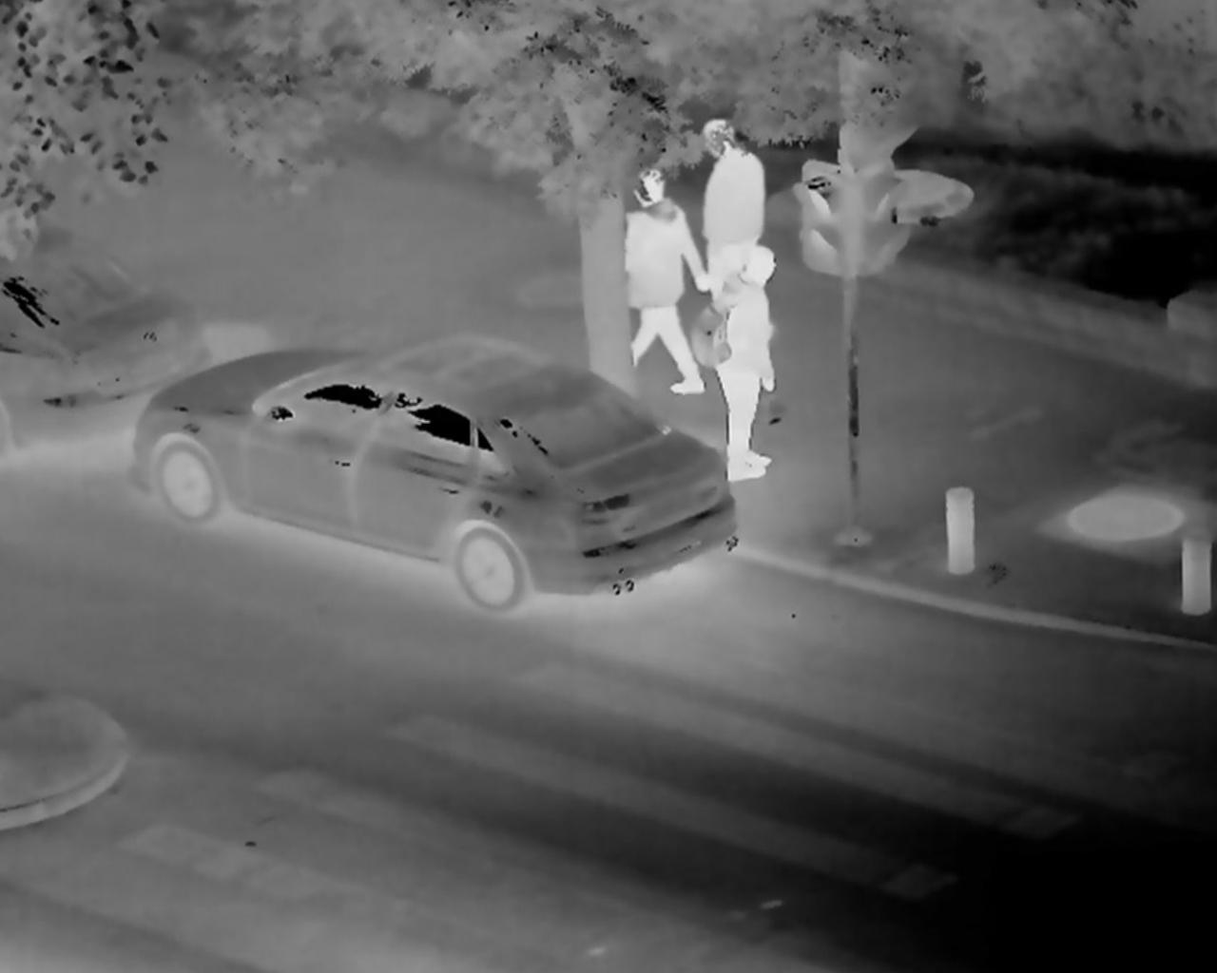person: (620, 165, 705, 396), (727, 248, 788, 485), (701, 121, 763, 313)
